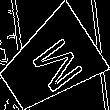M_SW: (18, 30, 81, 96)
